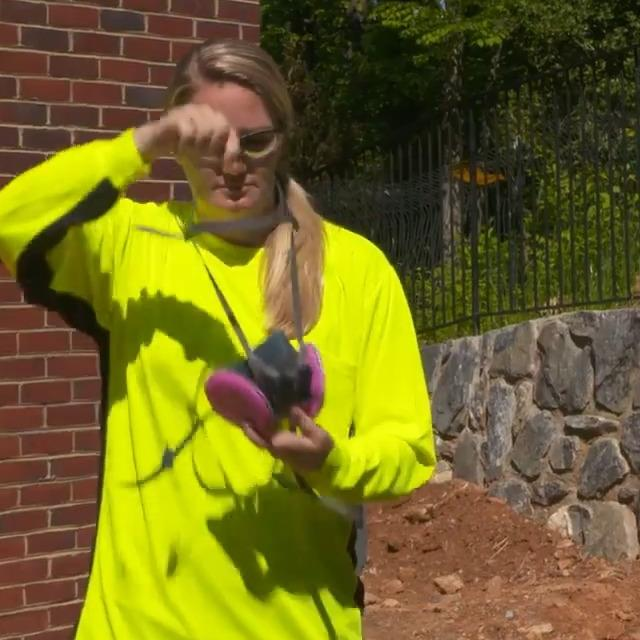Mask: (206, 327, 329, 442)
NO-Hardhat: (166, 39, 288, 113)
NO-Mask: (193, 167, 279, 220)
NO-Safety Vest: (101, 202, 359, 640)
Person: (0, 34, 440, 640)
